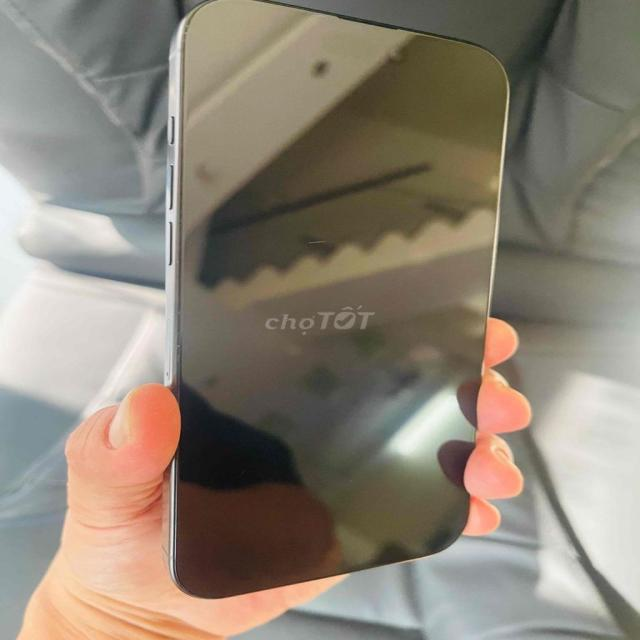scratch: (297, 218, 352, 272)
